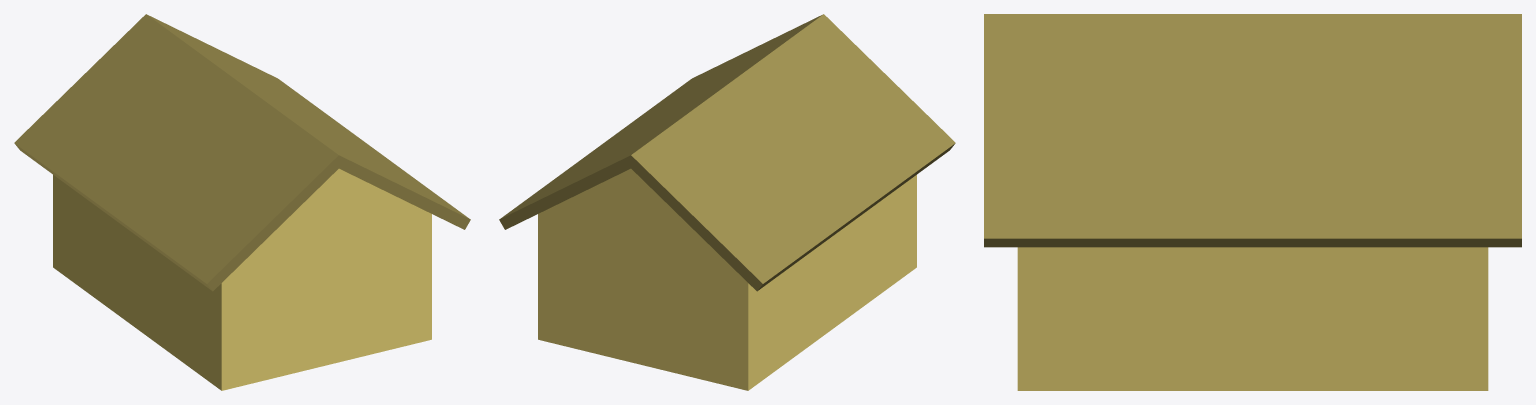
File: result.glb
The picture shows the model from 3 angles, left to right: view 1: azimuth 30°, elevation 25°; view 2: azimuth 150°, elevation 25°; view 3: azimuth 270°, elevation 25°; orthographic projection. The views are drawn at different scales.
Parts seen in each view (by area): view 1: 72a04abe-5a70-45e8-81ef-5333fab2b4b7__undefined (×2), 9ef9567d-0074-4079-b00f-0115ddc659d7__undefined; view 2: 72a04abe-5a70-45e8-81ef-5333fab2b4b7__undefined (×2), 9ef9567d-0074-4079-b00f-0115ddc659d7__undefined; view 3: 72a04abe-5a70-45e8-81ef-5333fab2b4b7__undefined, 9ef9567d-0074-4079-b00f-0115ddc659d7__undefined.
Boxes of the visible parts, <box> form: 72a04abe-5a70-45e8-81ef-5333fab2b4b7__undefined (×2): <box>14,14,470,291</box>; 9ef9567d-0074-4079-b00f-0115ddc659d7__undefined: <box>53,168,431,390</box>; 72a04abe-5a70-45e8-81ef-5333fab2b4b7__undefined (×2): <box>499,14,955,291</box>; 9ef9567d-0074-4079-b00f-0115ddc659d7__undefined: <box>538,168,916,390</box>; 72a04abe-5a70-45e8-81ef-5333fab2b4b7__undefined: <box>984,14,1521,247</box>; 9ef9567d-0074-4079-b00f-0115ddc659d7__undefined: <box>1017,247,1488,390</box>.
Bounding box in the file's own units: 631 × 500 × 798.
